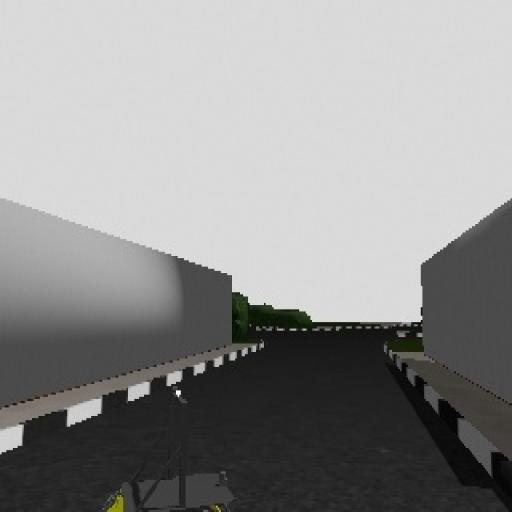huskya200: (82, 383, 243, 512)
